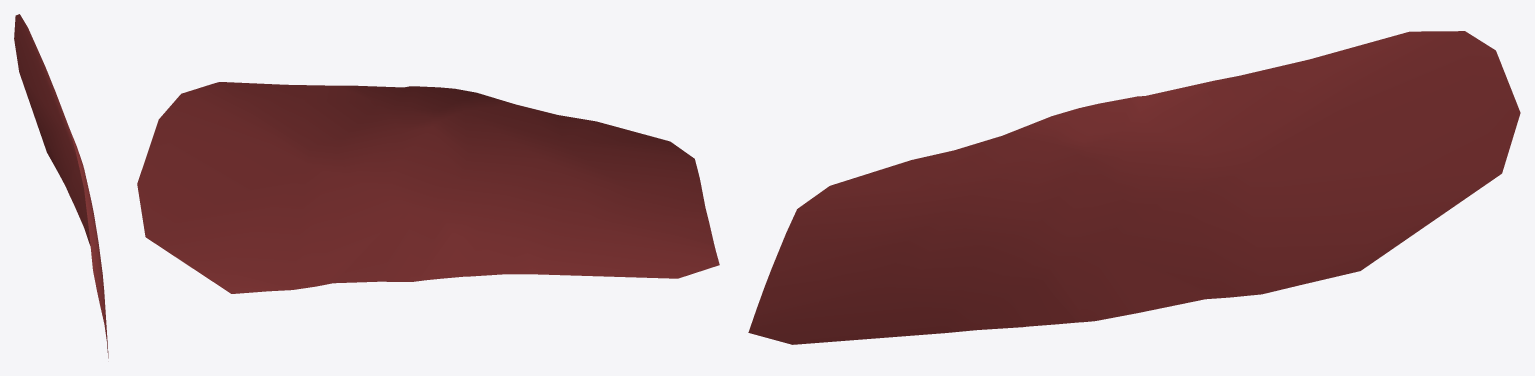
Rendered from serratus-anterior-muscle-e4l.glb.
3 renders of one model, left to right at view 1: azimuth 30°, elevation 25°; view 2: azimuth 150°, elevation 25°; view 3: azimuth 270°, elevation 25°, orthographic. The views are drawn at different scales.
Parts seen in each view (by area): view 1: Serratus anterior muscle.e4l; view 2: Serratus anterior muscle.e4l; view 3: Serratus anterior muscle.e4l.
Part boxes in pixels (bbox=[...]): Serratus anterior muscle.e4l: bbox=[14, 14, 108, 358]; Serratus anterior muscle.e4l: bbox=[137, 82, 719, 293]; Serratus anterior muscle.e4l: bbox=[748, 31, 1520, 344].
Bounding box in the file's own units: 0.0117 × 0.0223 × 0.0397.
